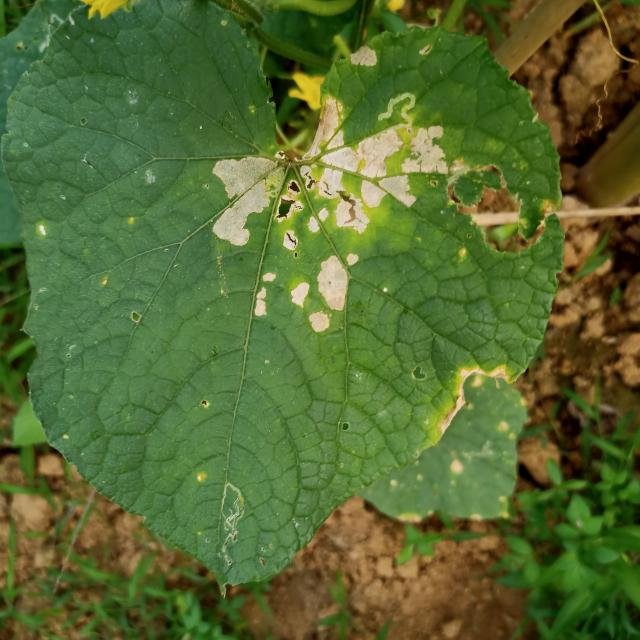disease_cucumber: (208, 105, 446, 350), (348, 41, 383, 73)
